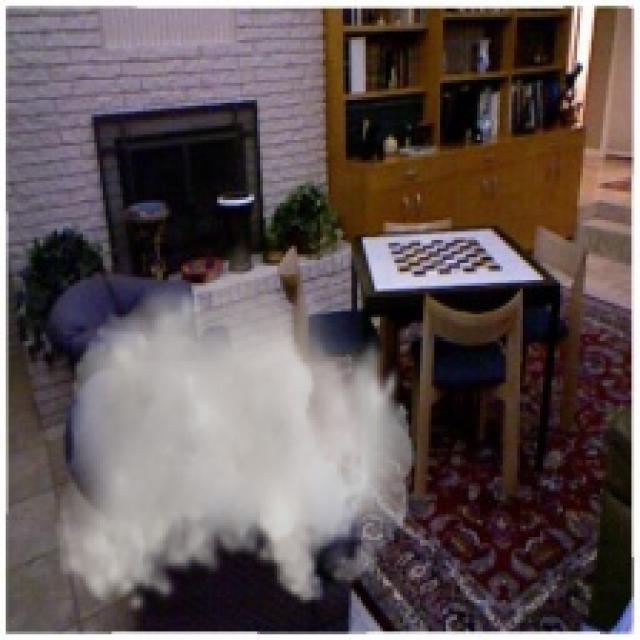smoke: (54, 237, 414, 617)
